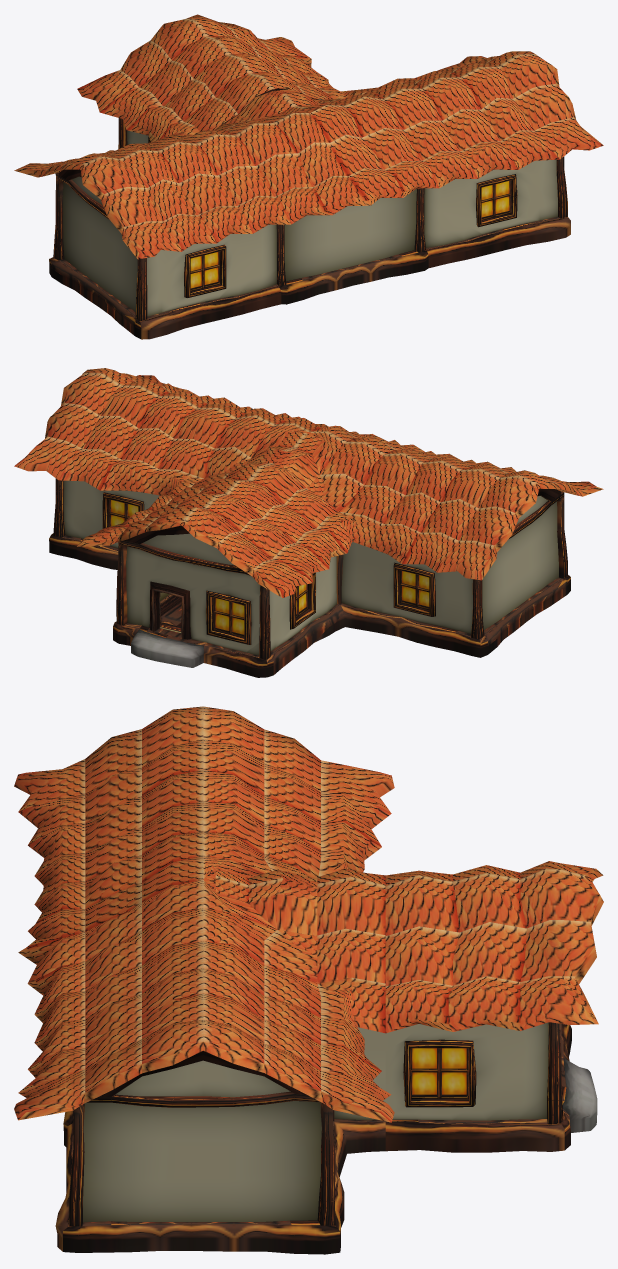
The model's file is house_t.glb.
3 renders of one model, top to bottom at view 1: azimuth 30°, elevation 25°; view 2: azimuth 150°, elevation 25°; view 3: azimuth 270°, elevation 25°, orthographic. The views are drawn at different scales.
Parts seen in each view (by area): view 1: Box003.002; view 2: Box003.002; view 3: Box003.002.
Part boxes in pixels (left/top/right/bottom): Box003.002: left=14, top=14, right=603, bottom=339; Box003.002: left=14, top=368, right=603, bottom=677; Box003.002: left=14, top=706, right=603, bottom=1254.
Bounding box in the file's own units: 36.29 × 10.81 × 25.7.
Materials: 1 (1 with a texture image).
